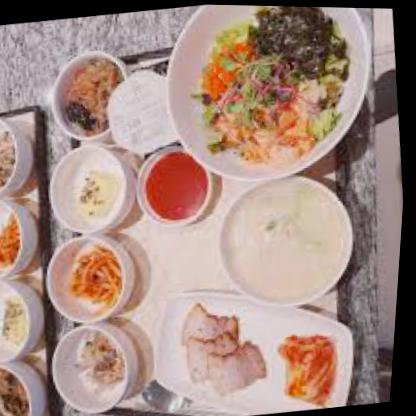Kimchi stew: (276, 326, 349, 410)
bibimbap: (158, 3, 367, 176)
pork belly: (176, 299, 269, 397)
